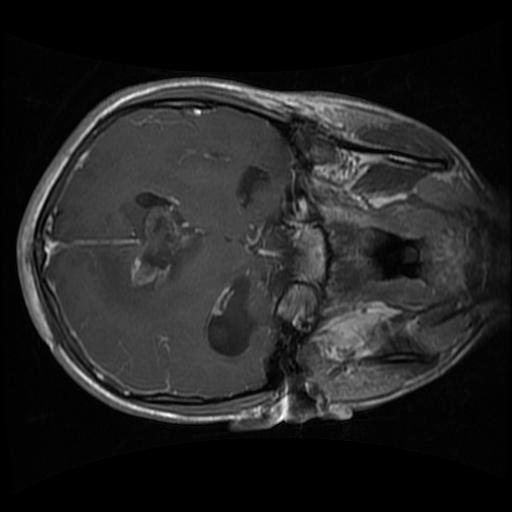glioma: (101, 188, 201, 297)
